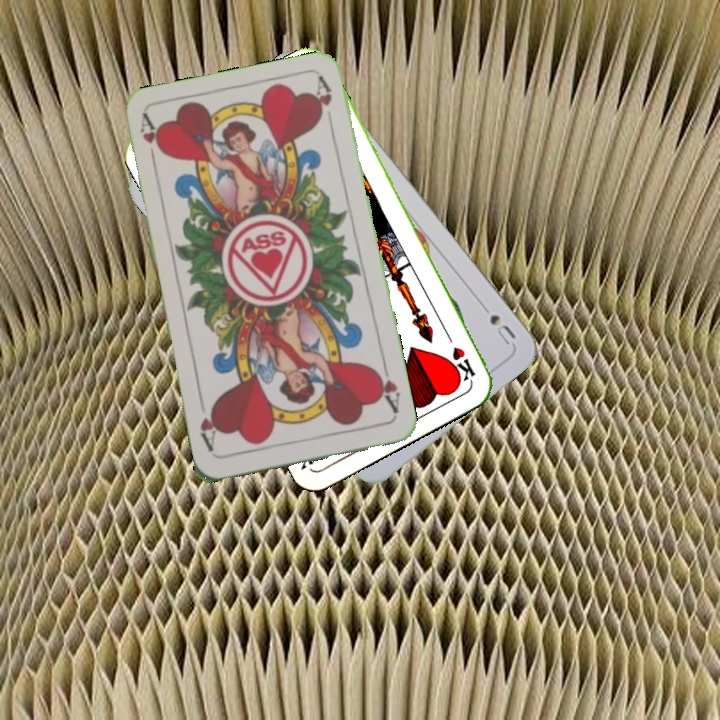HA: (370, 359, 403, 416), (136, 112, 163, 171)
HK: (441, 327, 478, 384)
SU: (485, 310, 519, 348)
